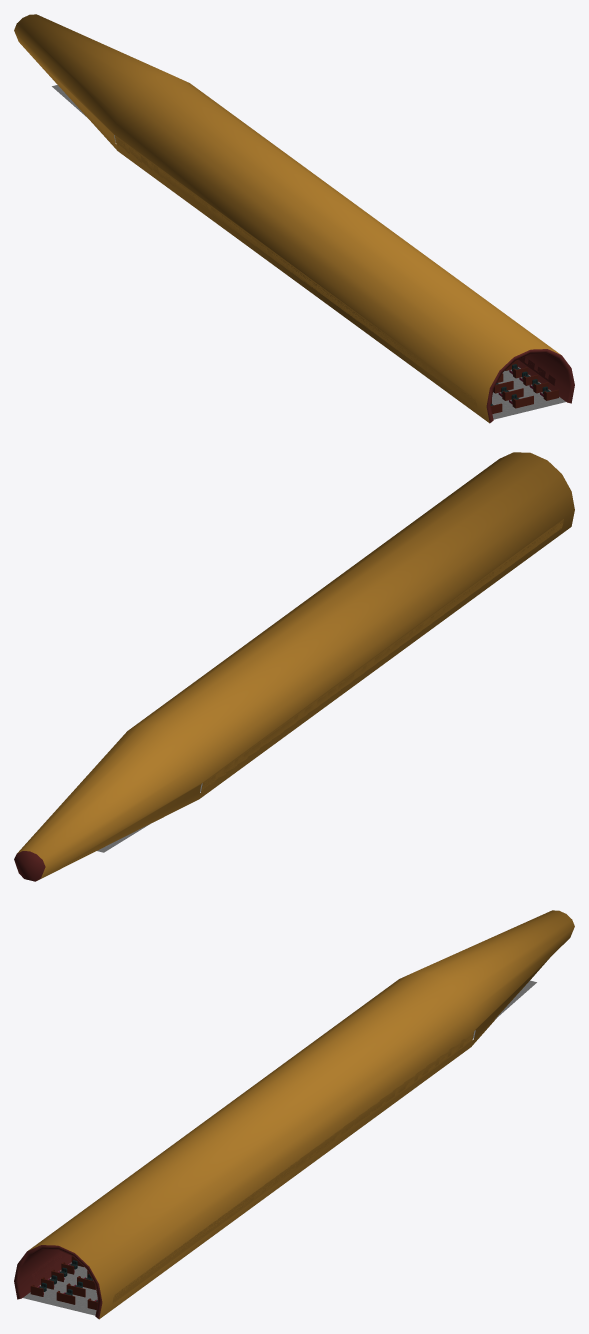
Rendered from stage3.fbx.
The picture shows the model from 3 angles, top to bottom: view 1: azimuth 30°, elevation 25°; view 2: azimuth 150°, elevation 25°; view 3: azimuth 330°, elevation 25°; orthographic projection.
Visible parts, largest first — view 1: Circle, 立方体.157, 平面; view 2: Circle; view 3: Circle, 平面, 立方体.157.
Part boxes in pixels (left/top/right/bottom): Circle: left=14, top=14, right=574, bottom=423; 立方体.157: left=490, top=360, right=558, bottom=413; 平面: left=52, top=85, right=565, bottom=419; Circle: left=14, top=452, right=574, bottom=881; Circle: left=14, top=910, right=574, bottom=1319; 平面: left=23, top=980, right=536, bottom=1315; 立方体.157: left=30, top=1256, right=97, bottom=1309.
Size of the model in its own units: 3132 by 2938 by 30716.
